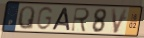8: (92, 8, 108, 34)
A: (51, 7, 71, 32)
G: (35, 6, 54, 32)
Q: (16, 5, 36, 31)
R: (70, 7, 91, 33)
V: (110, 8, 129, 35)
